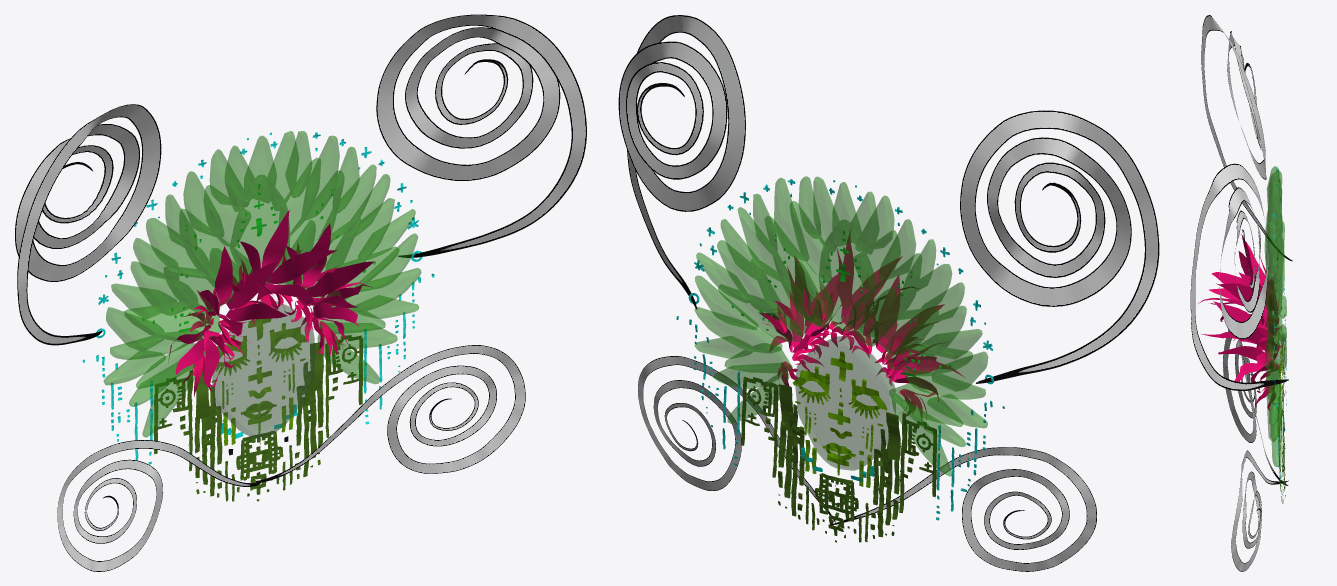
Rendered from the-forest.glb.
3 renders of one model, left to right at view 1: azimuth 30°, elevation 25°; view 2: azimuth 150°, elevation 25°; view 3: azimuth 270°, elevation 25°, orthographic. The views are drawn at different scales.
Parts seen in each view (by area): view 1: brush_DiamondHull_g0_b0_0, brush_CelVinyl_g0_b0_5, brush_Paper_g0_b0_4, brush_Petal_g0_b0_3; view 2: brush_DiamondHull_g0_b0_0, brush_CelVinyl_g0_b0_5, brush_Paper_g0_b0_4, brush_Petal_g0_b0_3; view 3: brush_CelVinyl_g0_b0_5, brush_DiamondHull_g0_b0_0, brush_Petal_g0_b0_3, brush_Paper_g0_b0_4.
Part boxes in pixels (x1,y1,x2,y2): brush_DiamondHull_g0_b0_0: (103,131,421,437); brush_CelVinyl_g0_b0_5: (15,14,586,571); brush_Paper_g0_b0_4: (82,132,434,501); brush_Petal_g0_b0_3: (168,210,374,396); brush_DiamondHull_g0_b0_0: (694,176,988,476); brush_CelVinyl_g0_b0_5: (618,15,1159,571); brush_Paper_g0_b0_4: (676,179,1004,542); brush_Petal_g0_b0_3: (759,233,964,420); brush_CelVinyl_g0_b0_5: (1190,15,1292,571); brush_DiamondHull_g0_b0_0: (1264,166,1286,467); brush_Petal_g0_b0_3: (1198,234,1280,410); brush_Paper_g0_b0_4: (1272,166,1286,503).
Bounding box in the file's own units: 0.7771 × 0.6286 × 0.1849.
4 materials, 3 textured.
